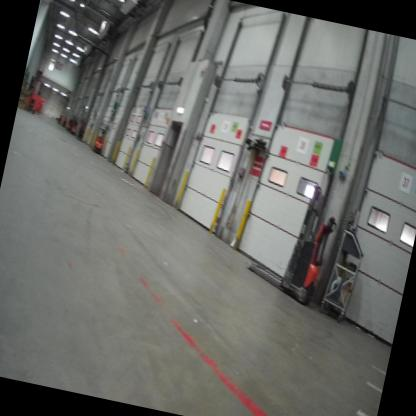pallet_truck: (236, 161, 346, 303), (25, 83, 42, 115), (91, 123, 110, 151), (76, 116, 90, 142)
